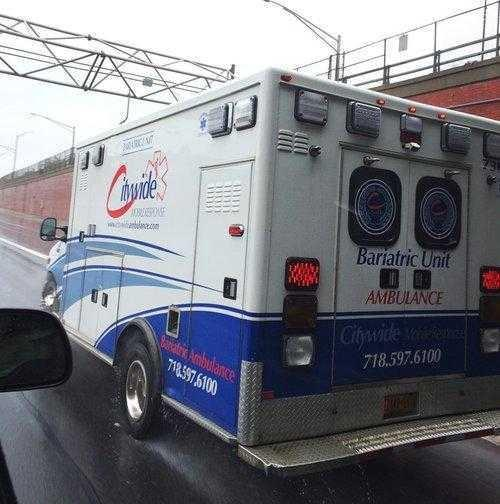car: (37, 66, 499, 475)
